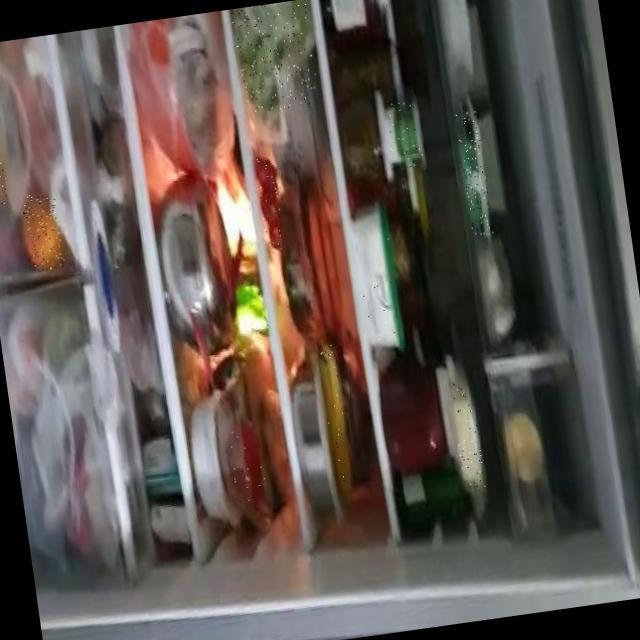Lechuga/Endivia: (229, 0, 319, 115)
Queso: (350, 207, 407, 351), (448, 379, 485, 489)
Yogur: (383, 100, 428, 170)
